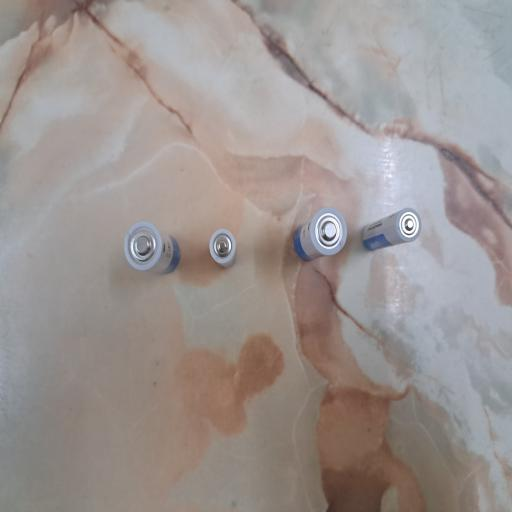battery: (124, 221, 181, 275), (294, 207, 348, 262), (363, 207, 422, 251), (210, 228, 237, 269)
